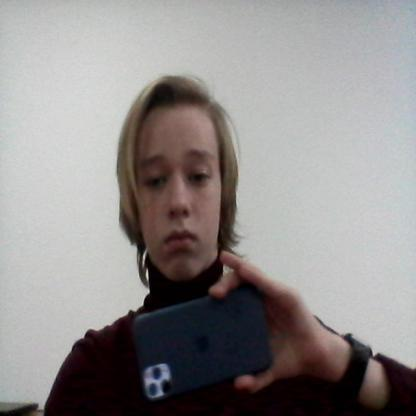phone: (127, 283, 288, 407)
